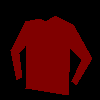abbigliamento_uomo: (10, 15, 92, 95)
